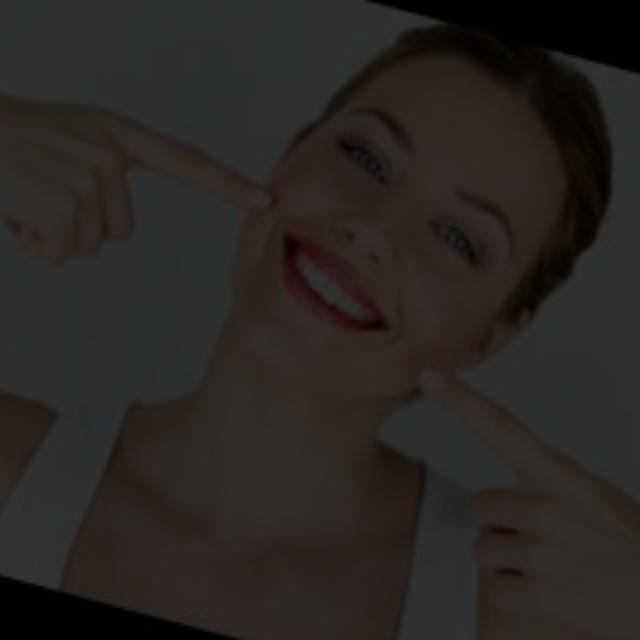Happy: (133, 48, 618, 417)
